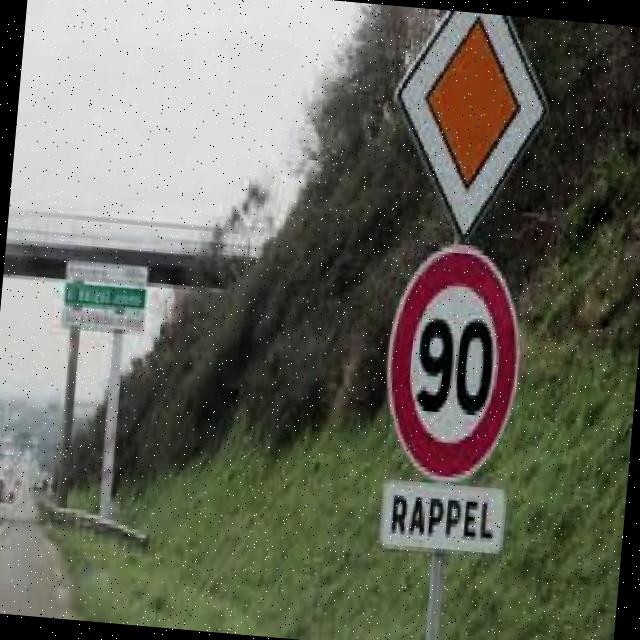Ograniczenie predkosci do 90: (386, 243, 526, 482)
